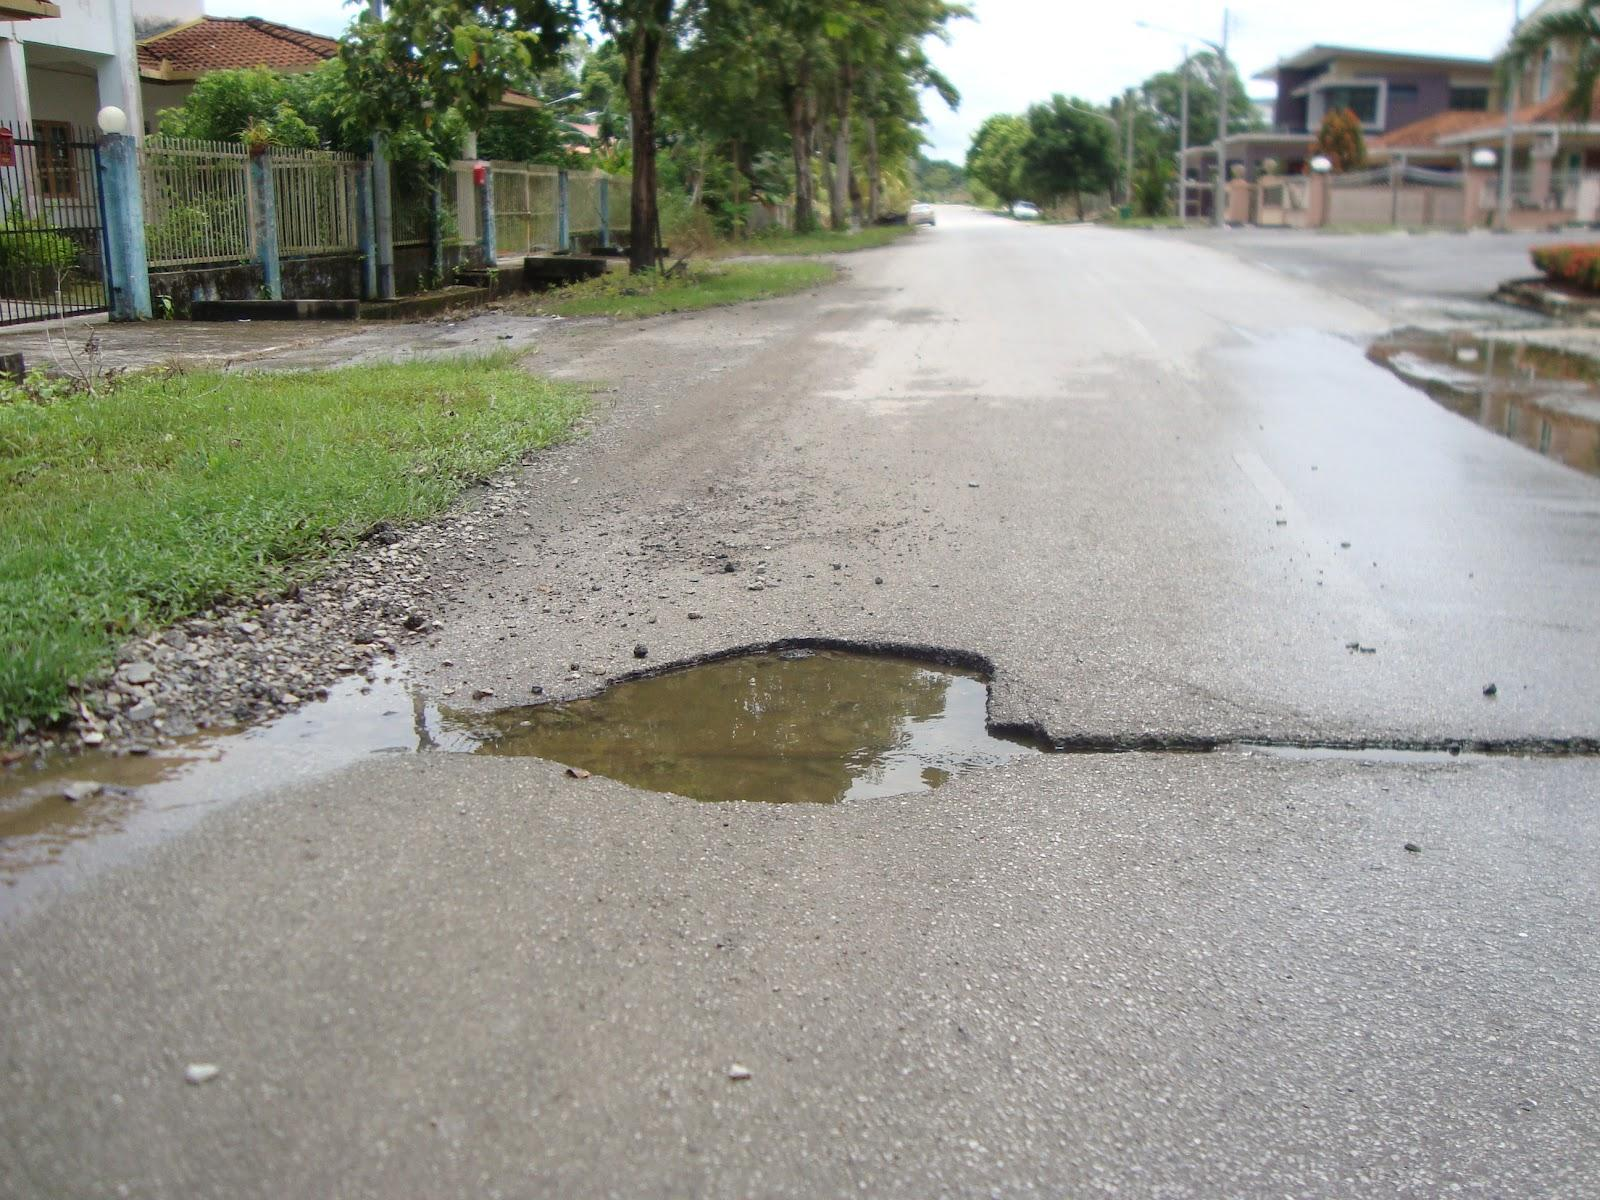Pothole: (48, 538, 1054, 1095)
